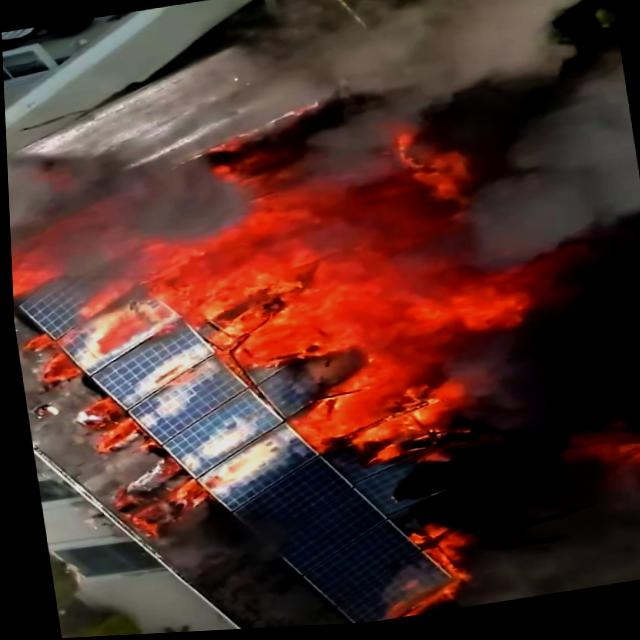fire: (199, 155, 517, 439)
